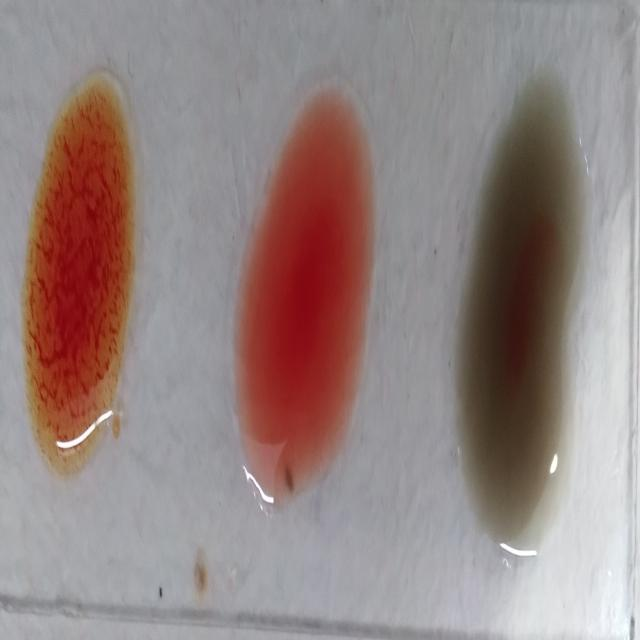B: (29, 75, 135, 477)
